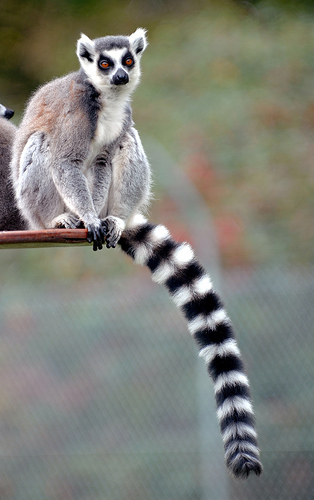cat: (10, 26, 267, 483)
